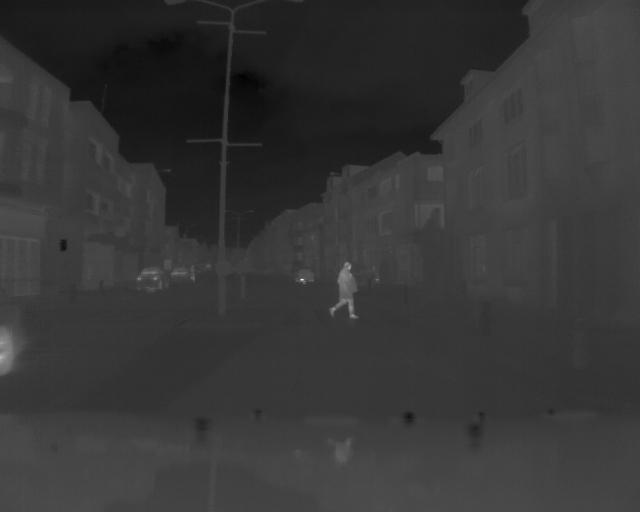car: (132, 263, 170, 289), (293, 266, 313, 283)
person: (333, 258, 361, 321), (187, 263, 197, 285)
